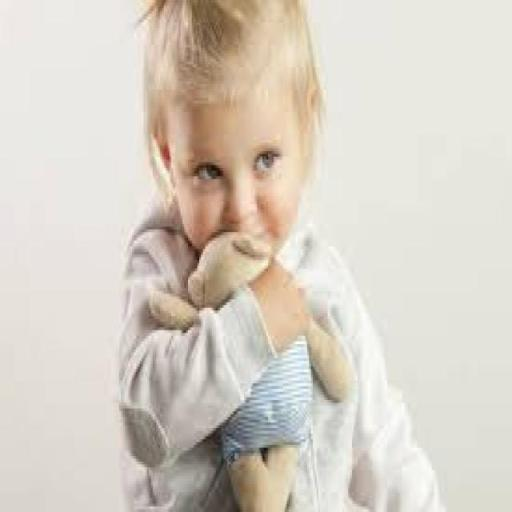baby: (118, 0, 447, 512)
